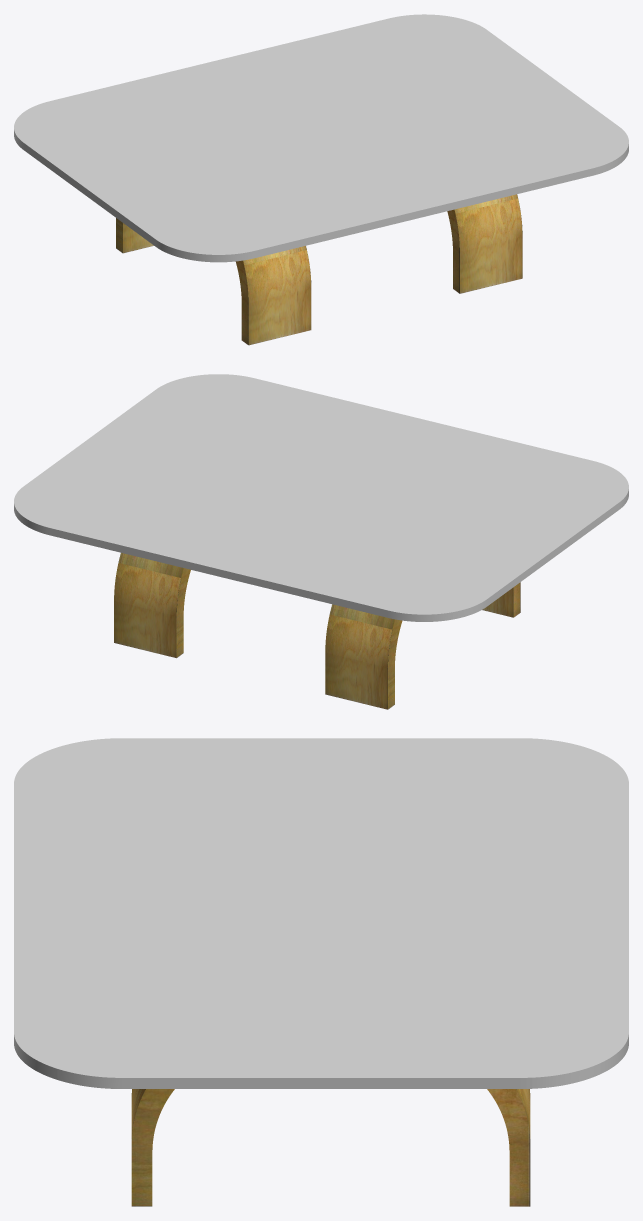
3 renders of one model, top to bottom at view 1: azimuth 30°, elevation 25°; view 2: azimuth 150°, elevation 25°; view 3: azimuth 270°, elevation 25°, orthographic. The views are drawn at different scales.
Parts seen in each view (by area): view 1: 3DSMeshMatrix (×3); view 2: 3DSMeshMatrix (×3); view 3: 3DSMeshMatrix (×2).
Part boxes in pixels (x1,y1,x2,y2): 3DSMeshMatrix (×3): [14, 14, 628, 345]; 3DSMeshMatrix (×3): [14, 374, 628, 709]; 3DSMeshMatrix (×2): [14, 738, 628, 1206].
Size of the model in its own units: 118 by 32.02 by 90.38.
Materials: 2 (1 with a texture image).
